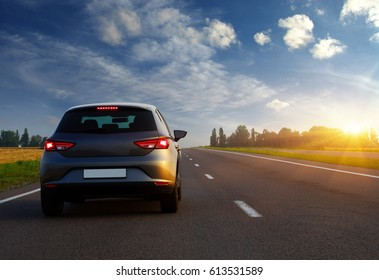car: (38, 101, 184, 217)
